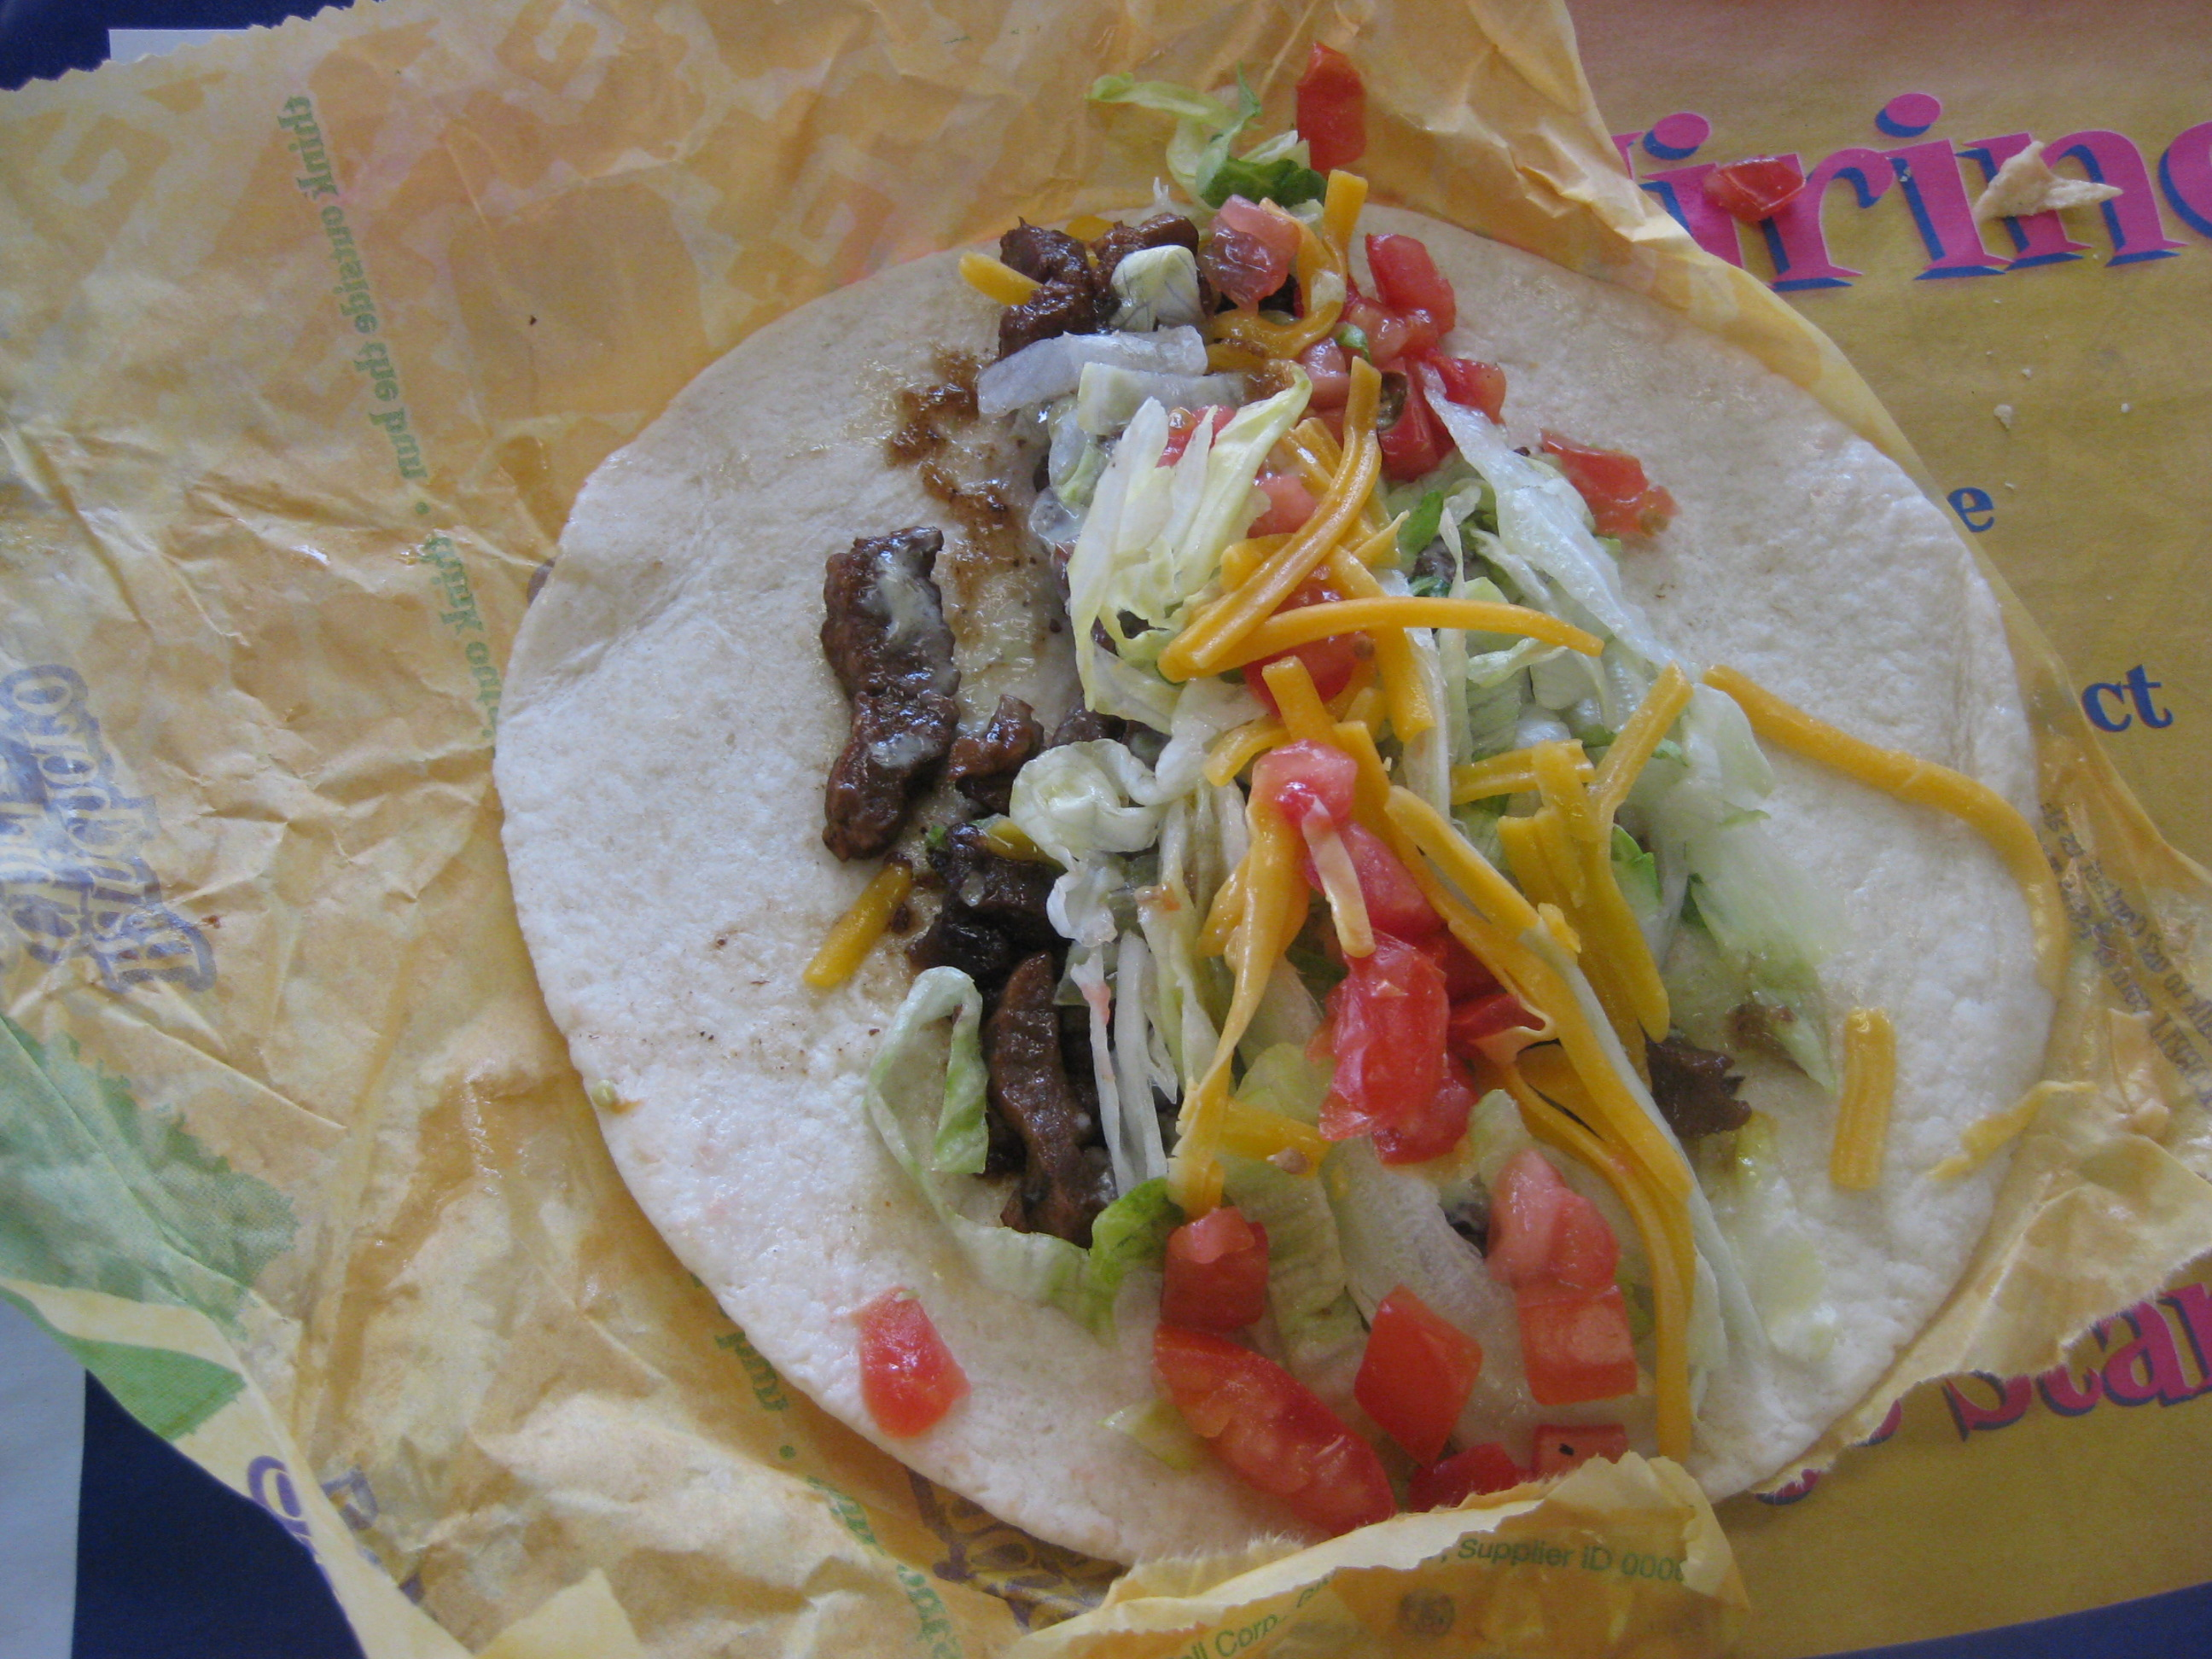taco: (609, 89, 2043, 1531)
